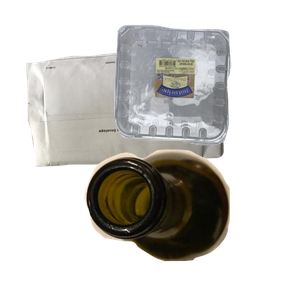glass: (82, 147, 300, 300)
paper: (24, 43, 242, 202)
plastic: (112, 22, 300, 160)
trash: (88, 177, 251, 300)
